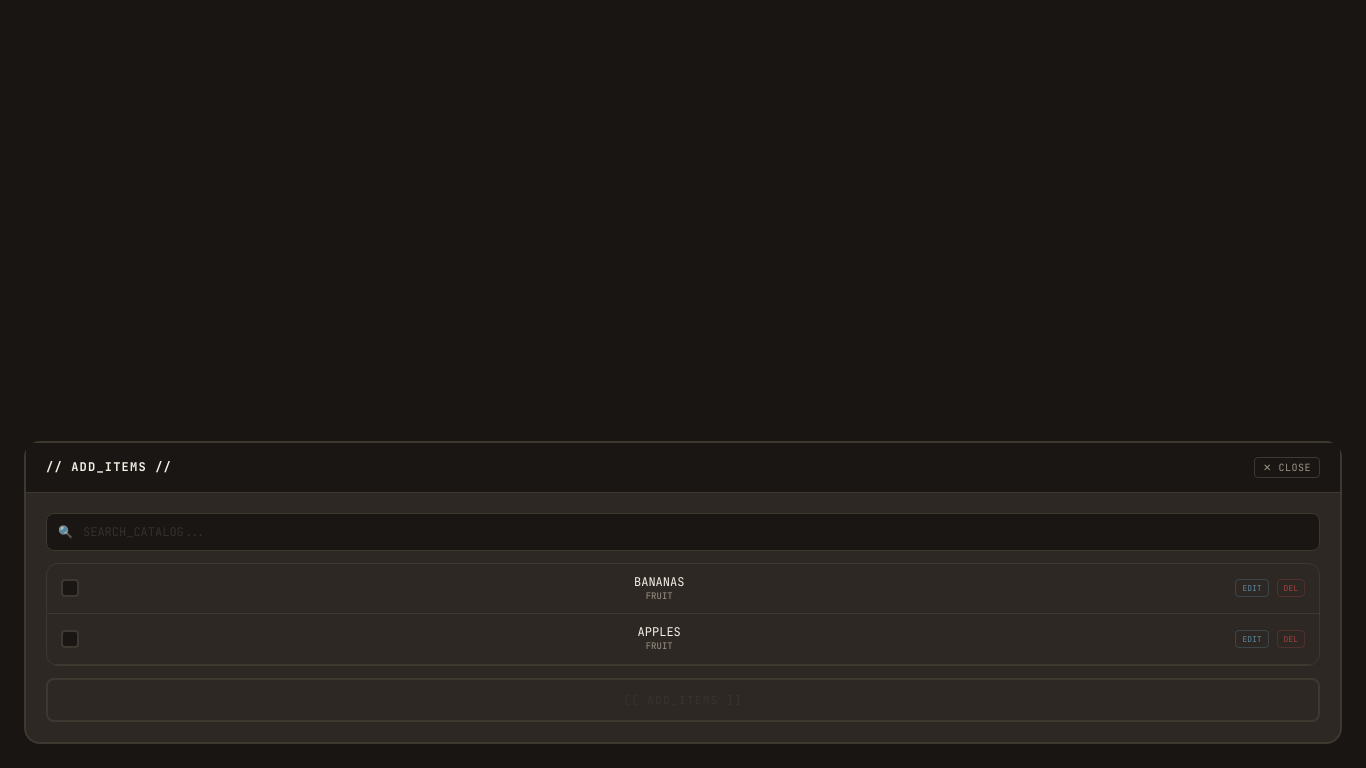
Scenario: AddItemsModal › EDIT on a catalog item opens an inline editor with the name and category picker
The width and height of the screenshot is (1366, 768).
// Click the first EDIT button (top of list)
Click the 1st button "EDIT": click(1252, 588) top-left (1235, 579), bottom-right (1269, 597)
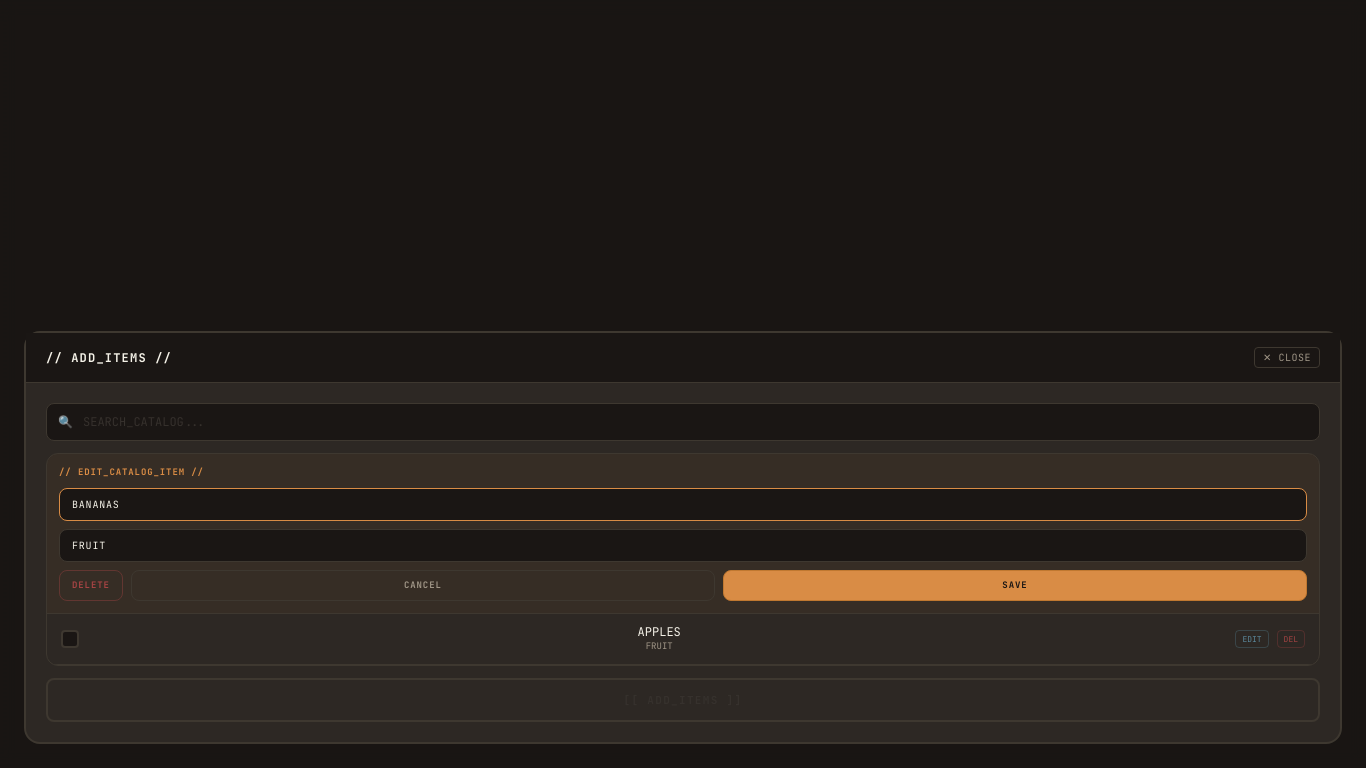
Now the text "// EDIT_CATALOG_ITEM //" is shown, box top-left (59, 466), bottom-right (204, 478)
Now the 1st field with placeholder "ITEM_NAME" is shown, box top-left (59, 488), bottom-right (1307, 520)
